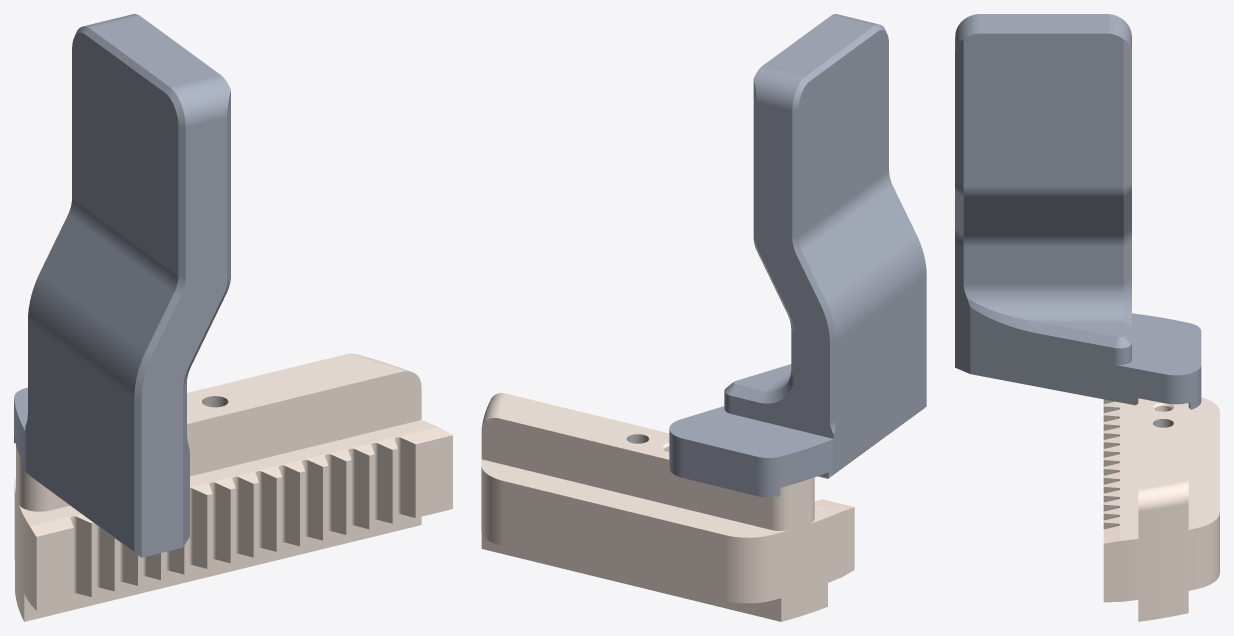
Rendered from left_finger.dae.
The picture shows the model from 3 angles, left to right: view 1: azimuth 30°, elevation 25°; view 2: azimuth 150°, elevation 25°; view 3: azimuth 270°, elevation 25°; orthographic projection. The views are drawn at different scales.
Visible parts, largest first — view 1: ID2; view 2: ID2; view 3: ID2.
Boxes of the visible parts, x1=… form: ID2: x1=14, y1=14, x2=452, y2=621; ID2: x1=481, y1=14, x2=926, y2=621; ID2: x1=955, y1=14, x2=1219, y2=621.
Size of the model in its own units: 0.0452 by 0.0314 by 0.0619.
